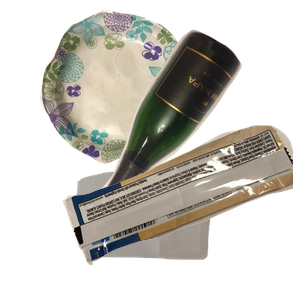glass: (87, 27, 300, 207)
paper: (37, 10, 219, 167)
plastic: (71, 169, 275, 300)
trash: (60, 123, 300, 300)
